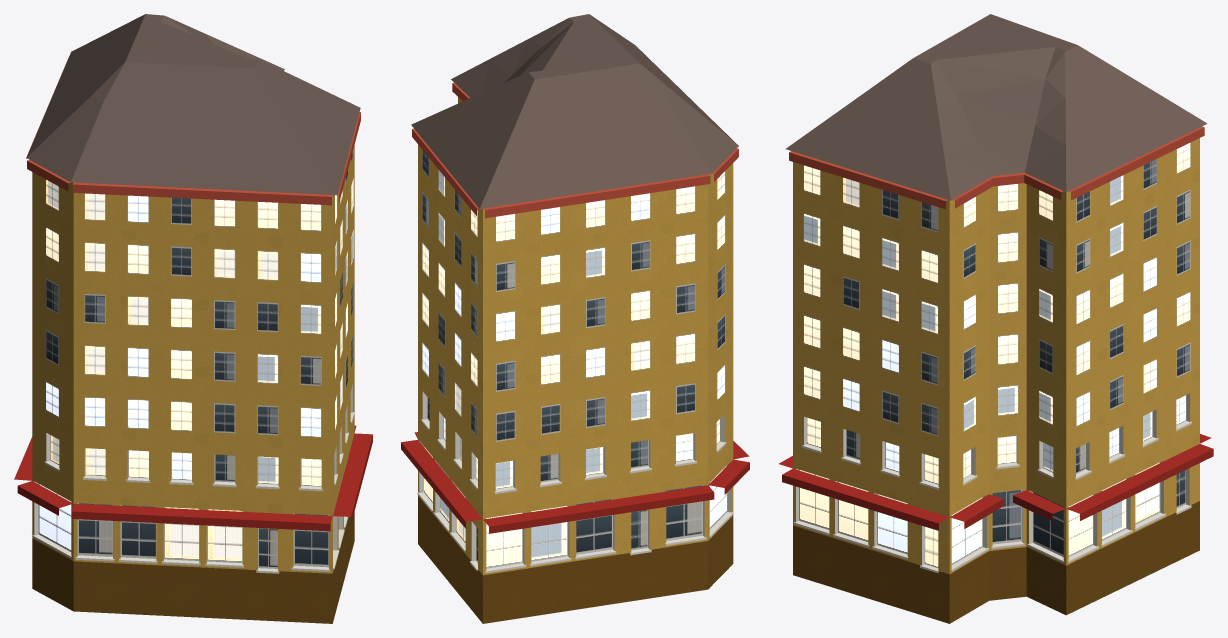
The model's file is z2_hard316.glb.
The picture shows the model from 3 angles, left to right: view 1: azimuth 30°, elevation 25°; view 2: azimuth 150°, elevation 25°; view 3: azimuth 270°, elevation 25°; orthographic projection. The views are drawn at different scales.
Visible parts, largest first — view 1: z2_hard316; view 2: z2_hard316; view 3: z2_hard316.
Part boxes in pixels (<box>): z2_hard316: <box>14,14,372,623</box>; z2_hard316: <box>401,14,749,623</box>; z2_hard316: <box>779,14,1213,623</box>.
Bounding box in the file's own units: 19.97 × 30.8 × 23.87.
Materials: 3 (3 with a texture image).
